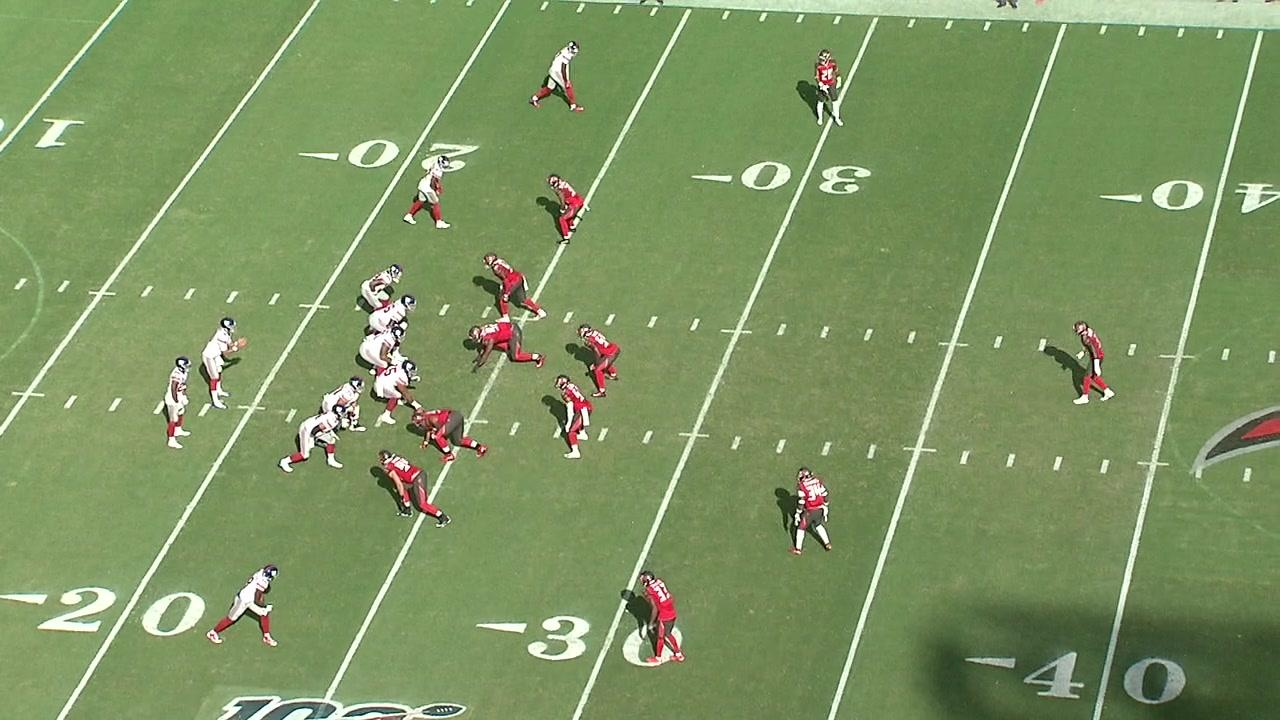player: (201, 563, 281, 649), (377, 449, 453, 530), (276, 403, 346, 481), (528, 38, 591, 116), (481, 251, 549, 323), (636, 570, 687, 666), (199, 317, 247, 412), (410, 407, 490, 464), (466, 320, 548, 373), (789, 466, 837, 555), (1071, 318, 1116, 411), (406, 152, 454, 234), (551, 373, 594, 464), (573, 323, 620, 399), (372, 360, 423, 426), (807, 49, 848, 130), (160, 353, 193, 451), (547, 172, 587, 246), (320, 374, 366, 436), (359, 261, 405, 314), (357, 325, 405, 375), (368, 296, 418, 333)
